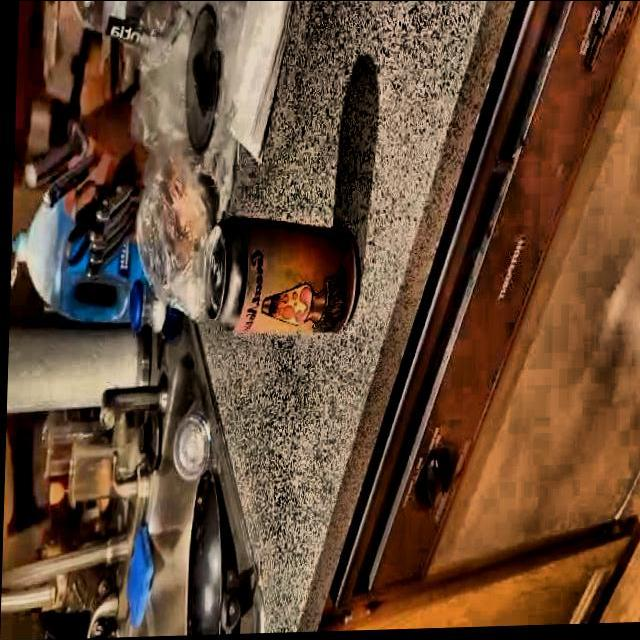Aluminum Can: (186, 206, 368, 352)
